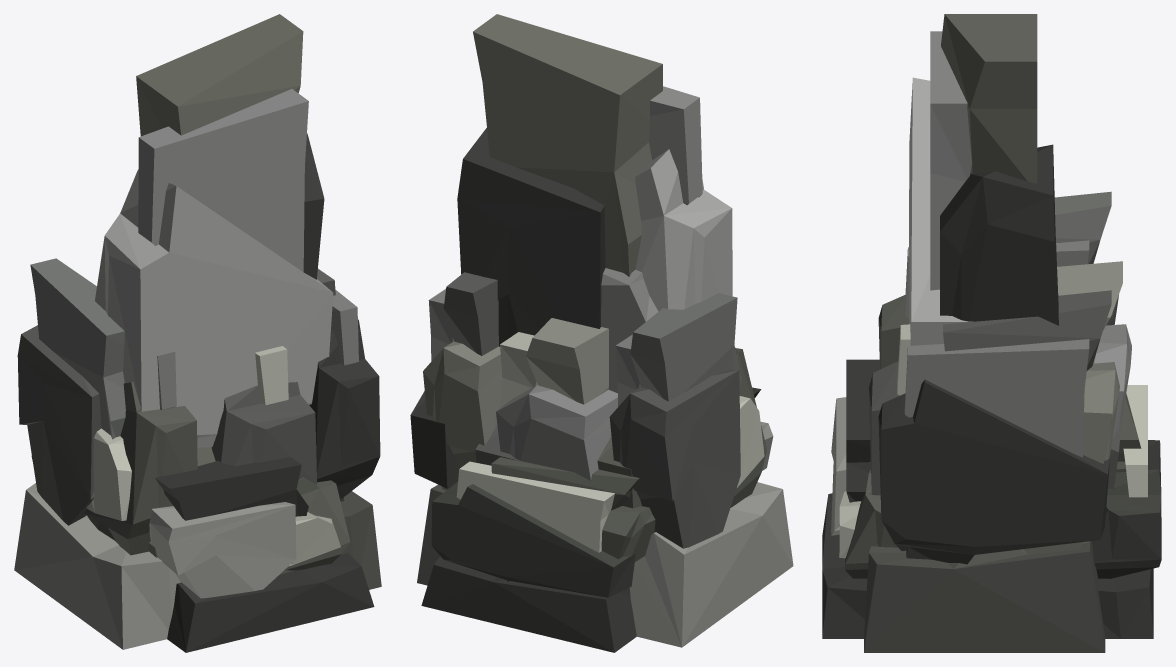
The model's file is DD_Rock02.fbx.
The picture shows the model from 3 angles, left to right: view 1: azimuth 30°, elevation 25°; view 2: azimuth 150°, elevation 25°; view 3: azimuth 270°, elevation 25°; orthographic projection. The views are drawn at different scales.
Parts seen in each view (by area): view 1: DD_Rock02; view 2: DD_Rock02; view 3: DD_Rock02.
Boxes of the visible parts, x1,y1,x2,y2 form: DD_Rock02: [14, 14, 381, 652]; DD_Rock02: [410, 14, 793, 652]; DD_Rock02: [822, 14, 1161, 652].
Size of the model in its own units: 137 by 257 by 137.
Materials: 1 (1 with a texture image).
